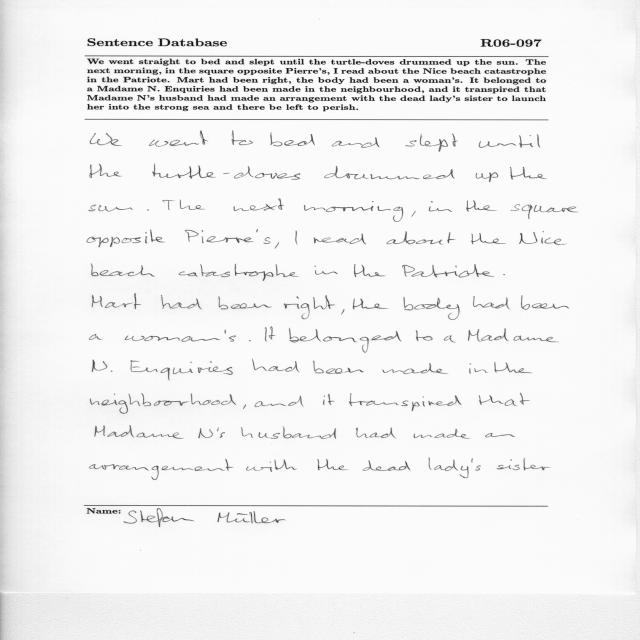word: (90, 393, 236, 414), (90, 459, 234, 480), (289, 328, 401, 353), (152, 164, 300, 179), (130, 360, 233, 381), (304, 201, 403, 222), (179, 264, 299, 281), (349, 393, 462, 411), (324, 166, 455, 179), (125, 329, 236, 342), (87, 230, 165, 248), (403, 297, 460, 320), (185, 229, 270, 244), (468, 329, 558, 343), (95, 425, 184, 439), (241, 426, 336, 439), (284, 296, 335, 320), (402, 264, 494, 277), (429, 458, 481, 478), (511, 204, 578, 219), (406, 134, 459, 152), (387, 232, 456, 245), (479, 134, 540, 148), (91, 264, 155, 276), (92, 294, 141, 309), (382, 363, 448, 374), (521, 295, 569, 310), (218, 297, 272, 310), (519, 231, 567, 245), (313, 361, 364, 374), (479, 393, 530, 406), (246, 459, 297, 472), (497, 458, 550, 470), (270, 133, 315, 147), (252, 359, 299, 372), (234, 199, 284, 211), (161, 295, 202, 309), (170, 131, 208, 146), (413, 429, 470, 439), (254, 396, 304, 407), (314, 234, 367, 244), (332, 137, 380, 148), (363, 460, 411, 471), (510, 167, 547, 180), (473, 296, 510, 309), (356, 428, 397, 439), (90, 164, 121, 178), (163, 200, 206, 210), (494, 362, 532, 373), (91, 133, 122, 146), (354, 264, 385, 277), (471, 233, 506, 244), (353, 299, 388, 310), (466, 200, 496, 212), (318, 459, 349, 470), (89, 205, 133, 212), (198, 427, 225, 438), (232, 131, 253, 145), (429, 201, 452, 212), (92, 360, 113, 372), (476, 172, 498, 182), (314, 266, 338, 275), (469, 363, 488, 374), (416, 330, 433, 341), (265, 327, 276, 342), (149, 140, 169, 147), (323, 394, 335, 405), (485, 433, 515, 437), (444, 336, 456, 343), (89, 334, 102, 340), (295, 230, 298, 245), (411, 211, 416, 217), (275, 242, 279, 249), (342, 309, 345, 315), (243, 404, 246, 409), (147, 209, 149, 211), (503, 274, 505, 275), (249, 340, 251, 341)
